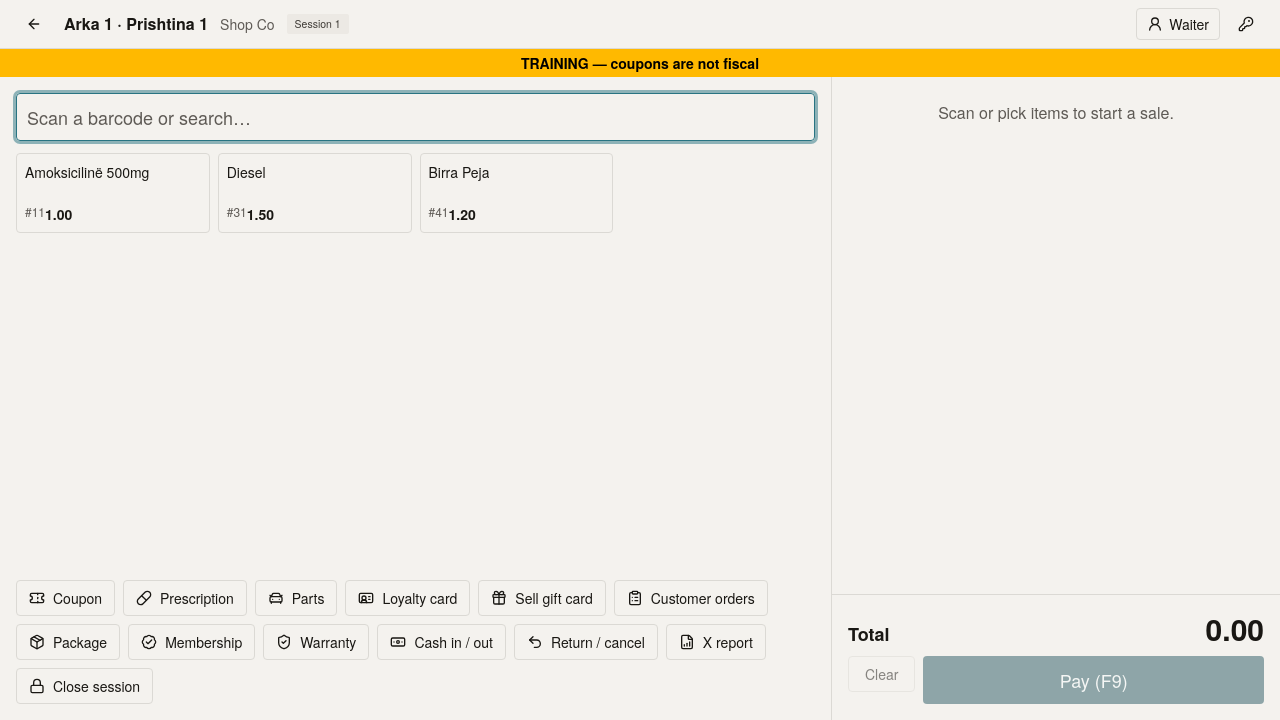
Till — pharmacy (P7) › puts the lot and serial of a GS1 code on the line and flags an expired pack
The image size is (1280, 720).
Step 1. Type "0103830012345678172512311 0L2309" into the field labelled "Scan a barcode or search…" → (416, 117), box [16, 93, 815, 141]
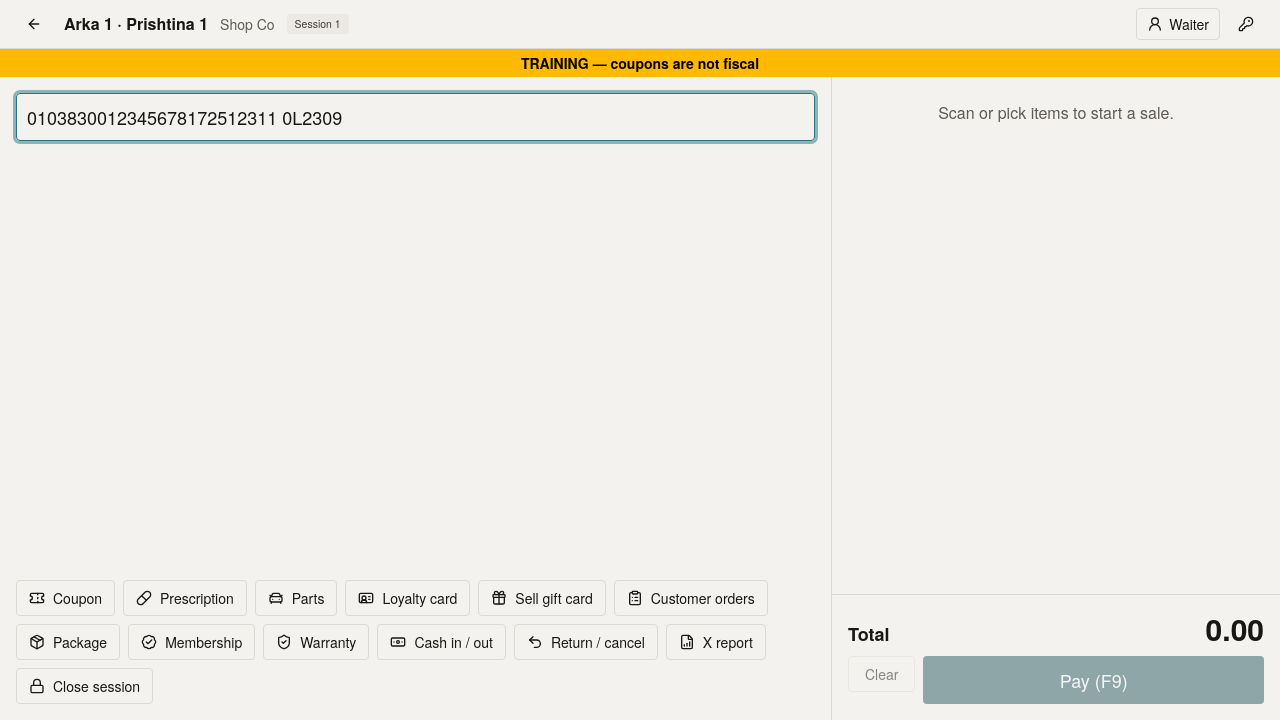
Step 2. Press Enter in the field named "Scan a barcode or search…", box [16, 93, 815, 141]
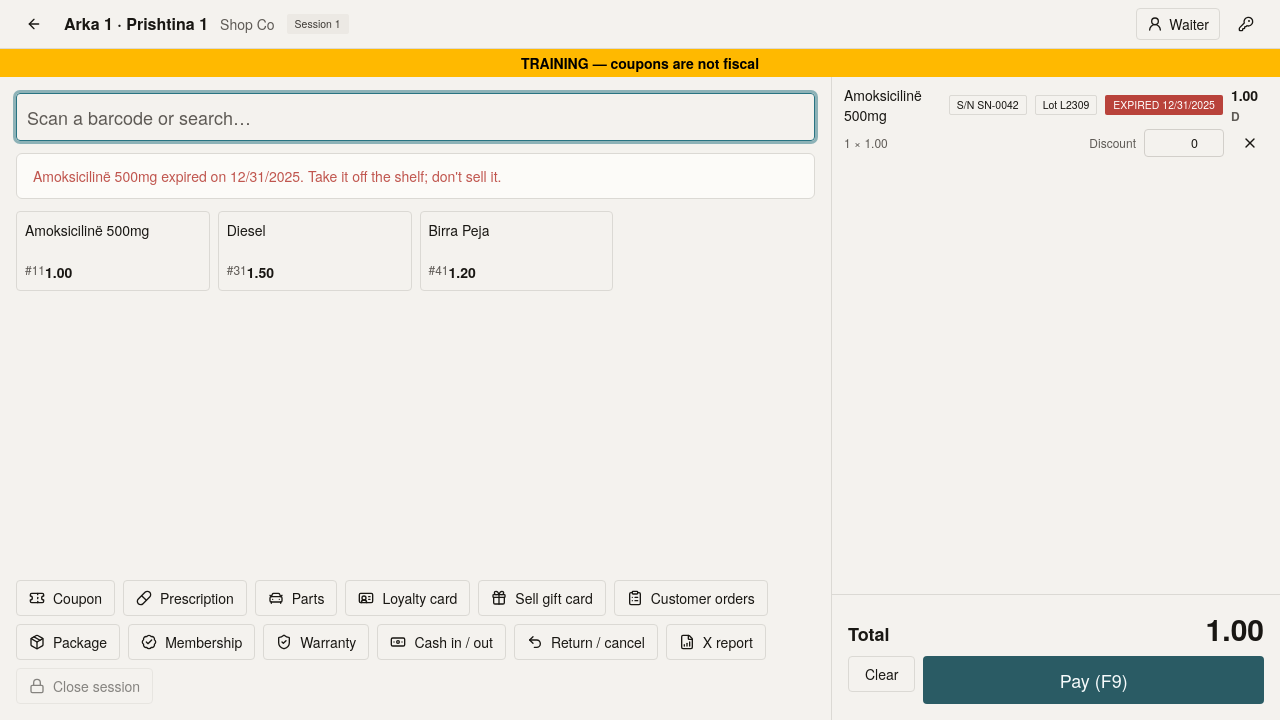
Check: the text with test id "line-lot" shows "L2309", box [1043, 97, 1089, 112]
Check: the text with test id "line-expiry" shows "EXPIRED", box [1113, 97, 1215, 112]
Check: the text "expired on" is shown, box [33, 166, 502, 186]
